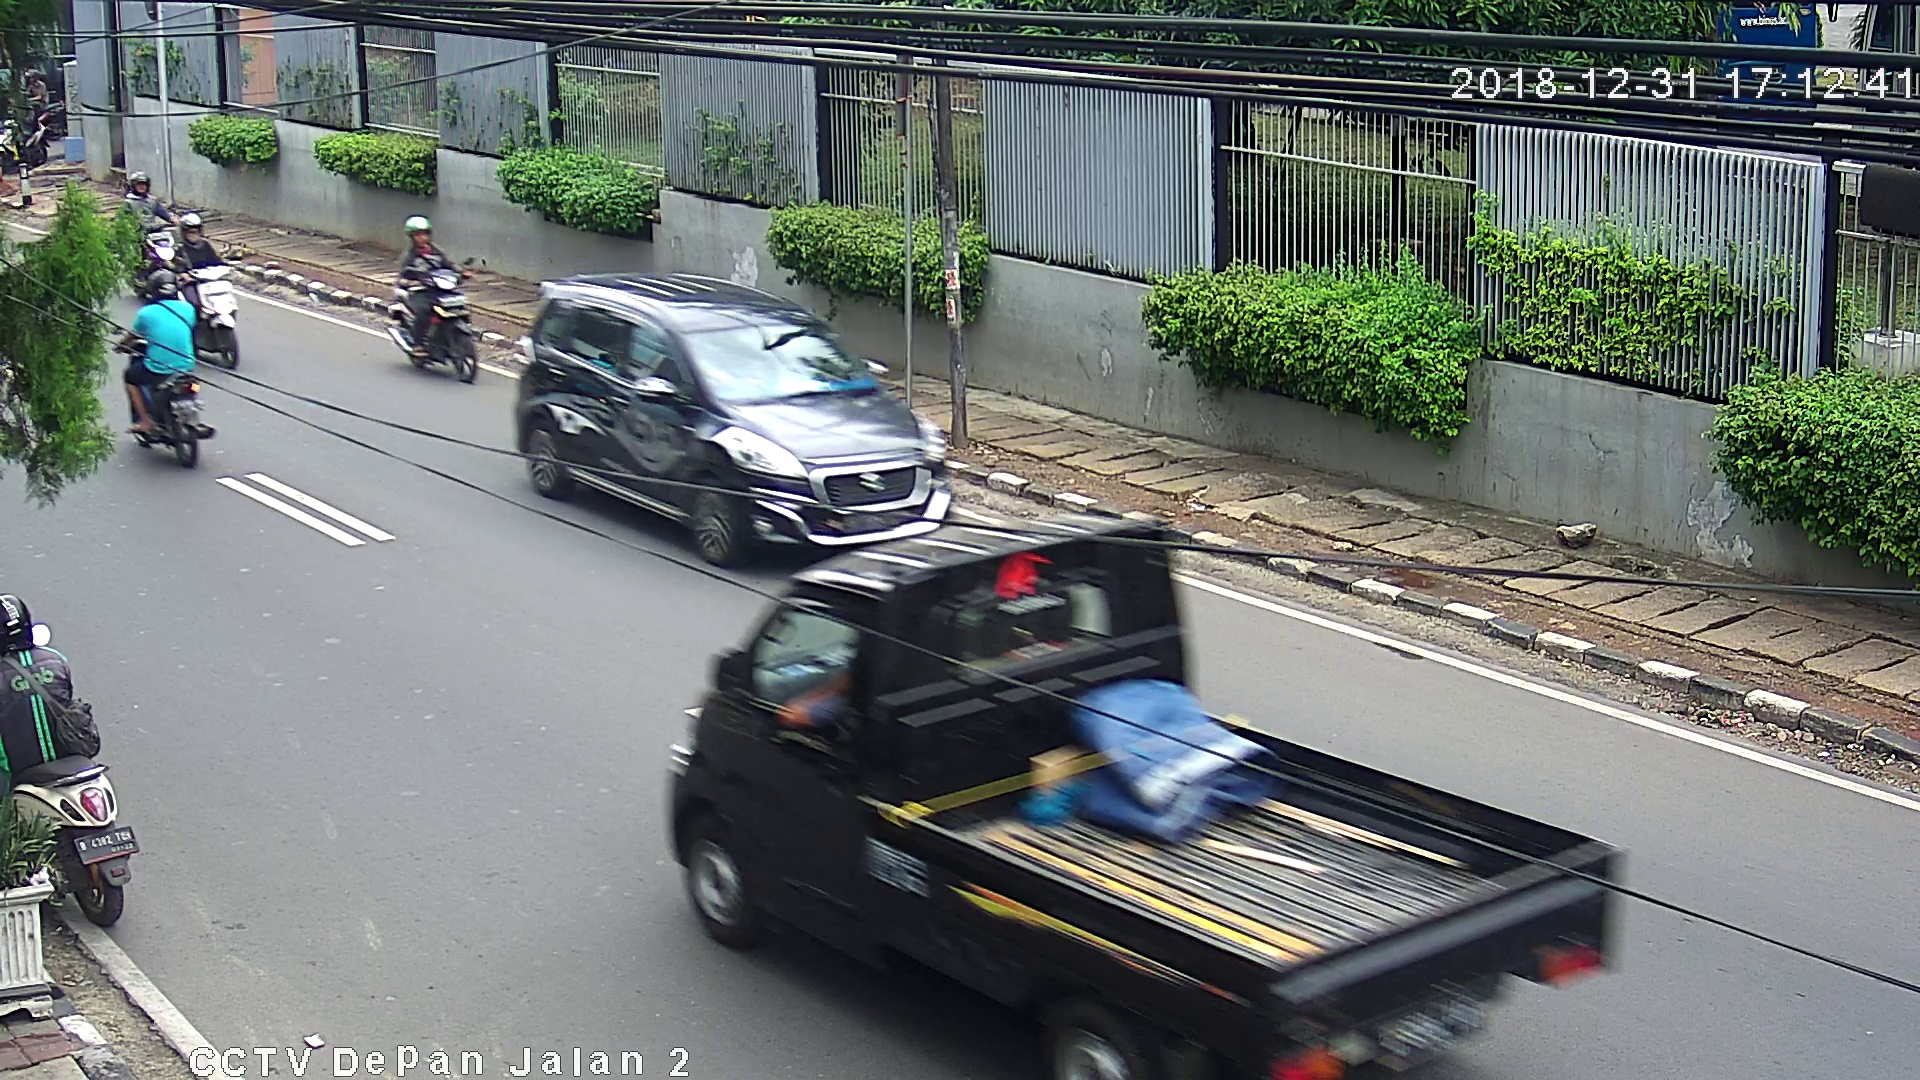car: (512, 248, 952, 556)
motorcycle: (1, 592, 156, 934), (111, 266, 233, 472), (371, 207, 487, 393), (165, 208, 255, 372)
truck: (667, 501, 1633, 1080)
